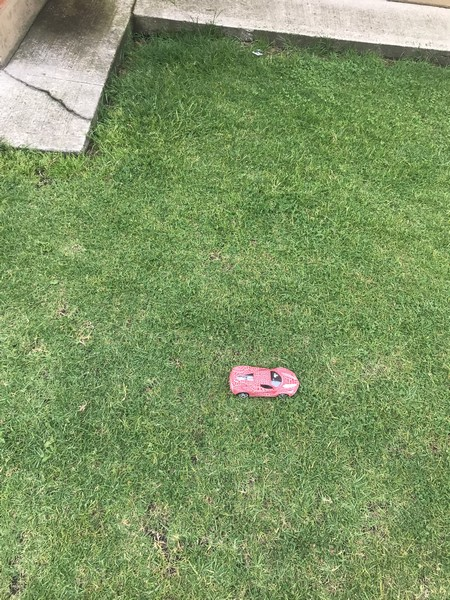RC: (226, 364, 302, 403)
